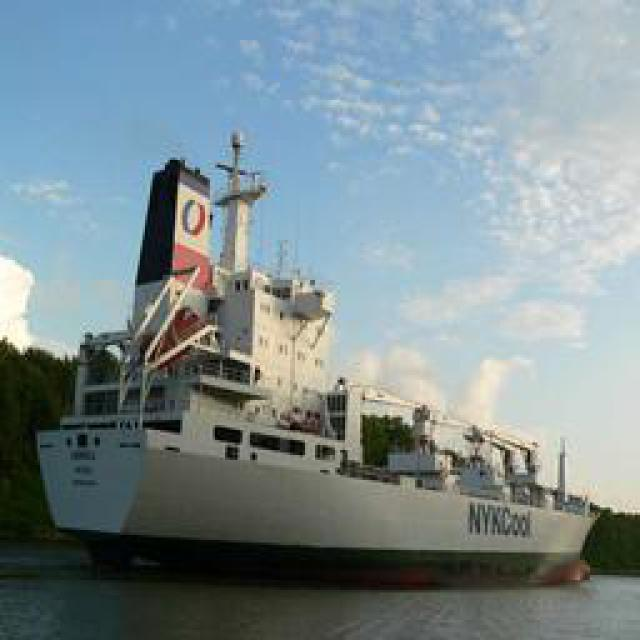Ship: (37, 126, 617, 579)
